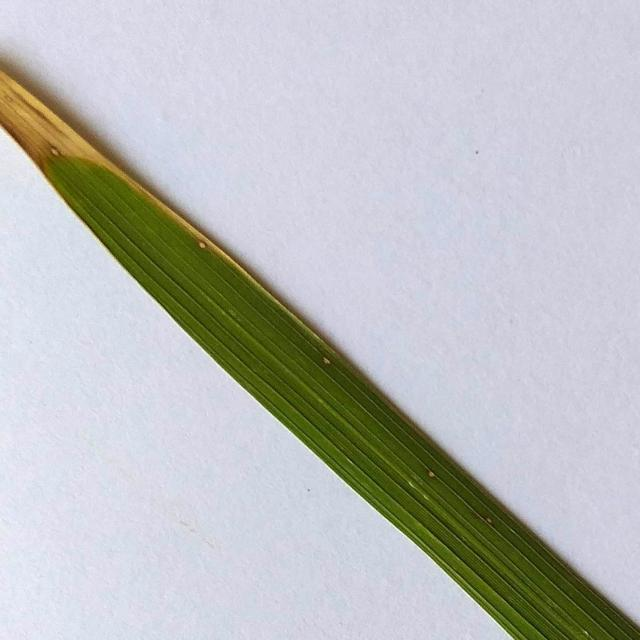Blast: (416, 466, 447, 484), (186, 234, 206, 256), (315, 352, 338, 368), (48, 144, 71, 160)
